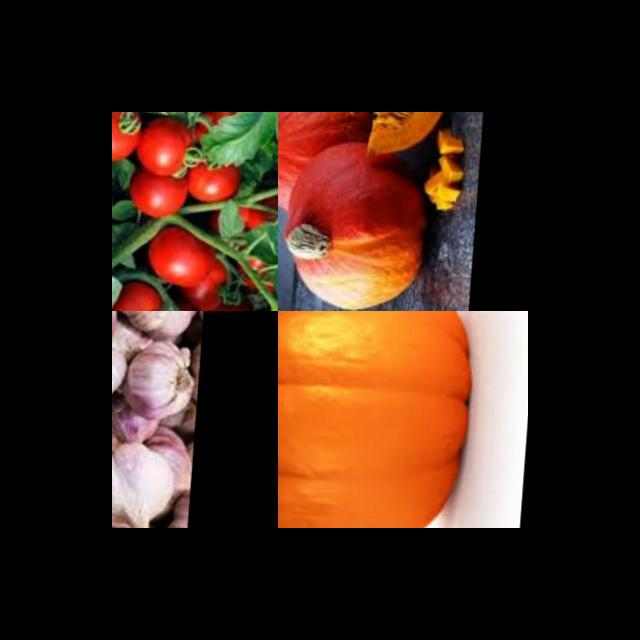garlic: (112, 311, 216, 528)
tomato: (152, 220, 226, 284), (142, 112, 204, 176), (190, 148, 250, 205), (134, 171, 198, 218), (188, 261, 241, 311), (112, 277, 175, 311), (194, 112, 254, 146), (112, 112, 149, 160), (211, 281, 263, 311)
